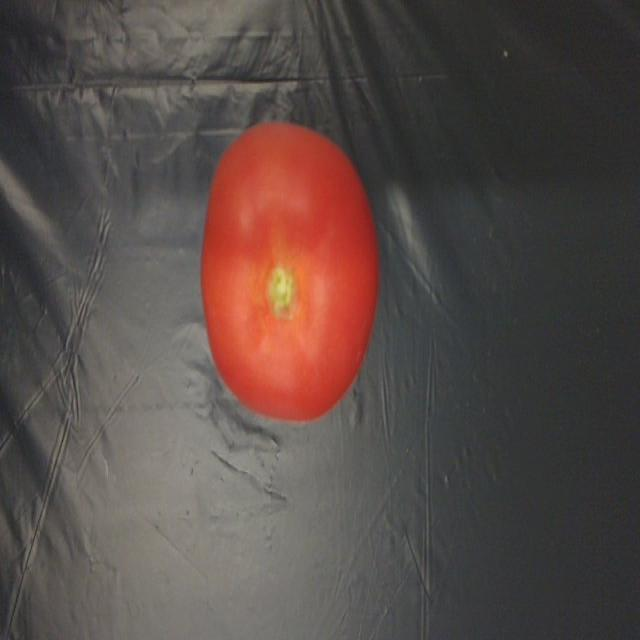kirmizi: (202, 114, 384, 421)
